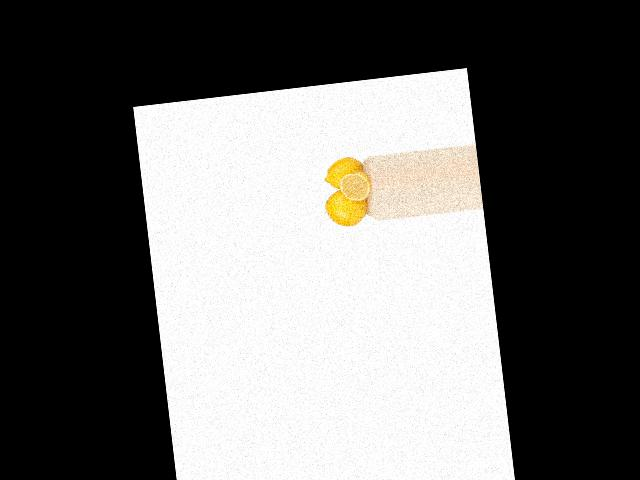lemon: (321, 153, 368, 190)
